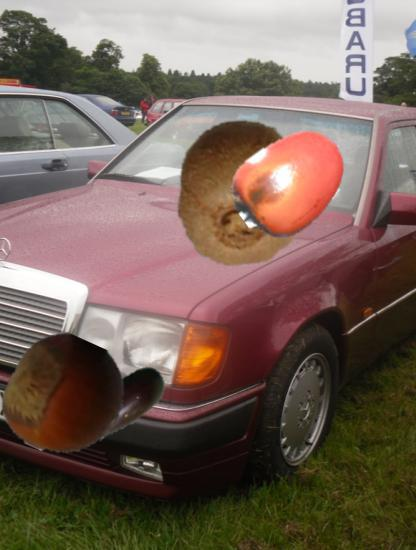Eggplant: (65, 352, 175, 462)
Kaki: (231, 123, 352, 244)
Kiwi: (168, 119, 316, 267)
Nut: (6, 337, 126, 457)
